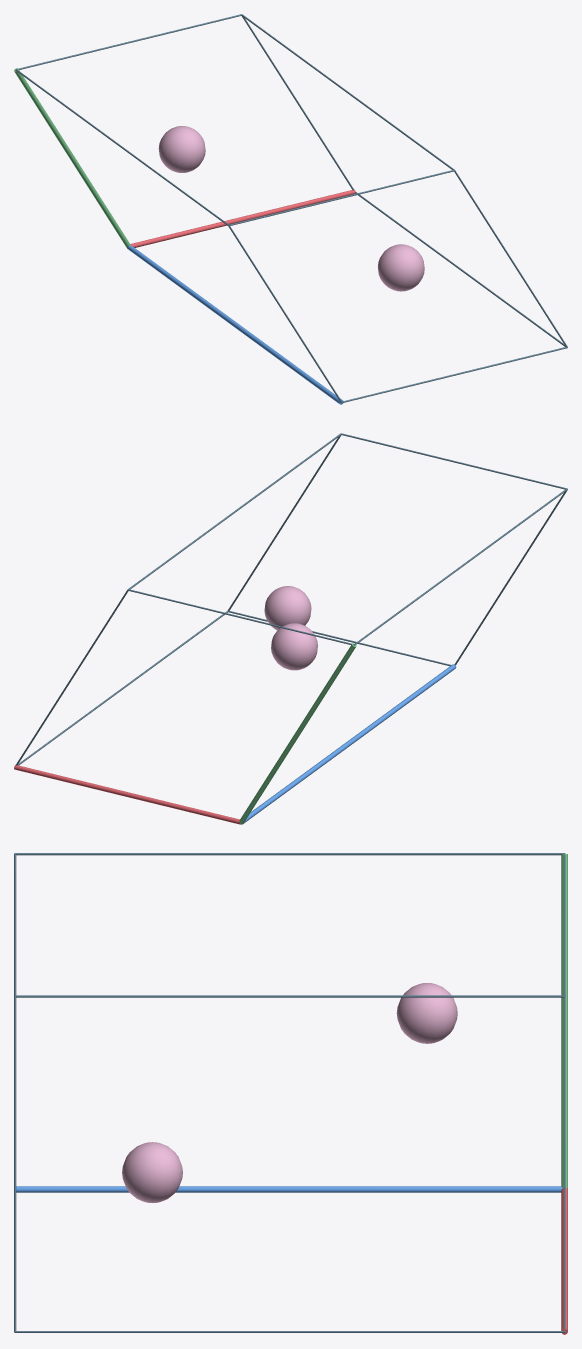
The model's file is chat-solid-helium.glb.
3 renders of one model, top to bottom at view 1: azimuth 30°, elevation 25°; view 2: azimuth 150°, elevation 25°; view 3: azimuth 270°, elevation 25°, orthographic. The views are drawn at different scales.
Parts seen in each view (by area): view 1: Ô mạng và các trục a, b, c, He · He · 1 (×2); view 2: Ô mạng và các trục a, b, c, He · He · 1 (×2); view 3: Ô mạng và các trục a, b, c, He · He · 1 (×2).
Part boxes in pixels (x1,y1,x2,y2): Ô mạng và các trục a, b, c: (14, 14, 567, 404); He · He · 1 (×2): (158, 126, 424, 291); Ô mạng và các trục a, b, c: (14, 433, 567, 824); He · He · 1 (×2): (264, 586, 317, 670); Ô mạng và các trục a, b, c: (14, 853, 567, 1334); He · He · 1 (×2): (122, 983, 457, 1202).
Size of the model in its own units: 5.34 by 3.11 by 5.81.
